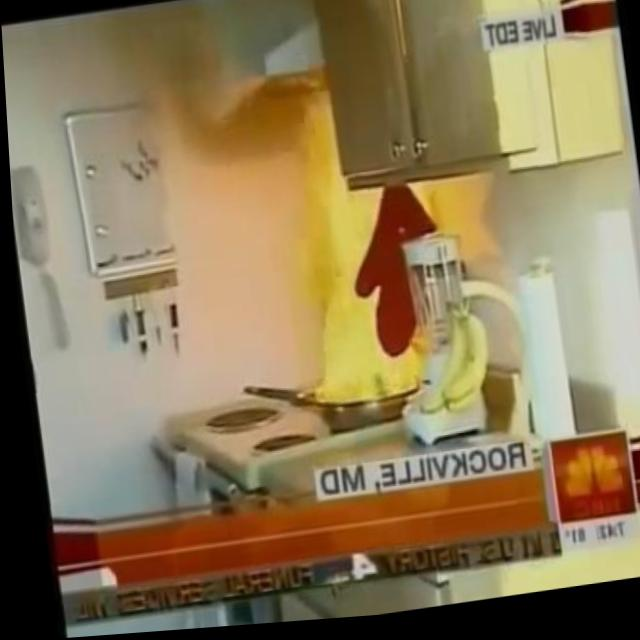fire: (280, 142, 414, 410)
